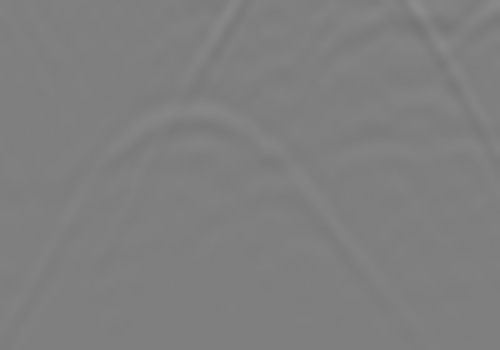hyperbola: (30, 103, 402, 334)
